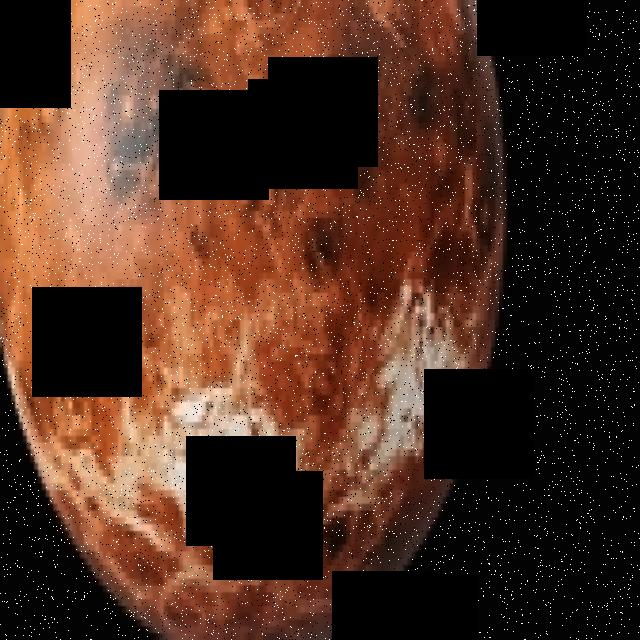Venus: (0, 0, 511, 640)
